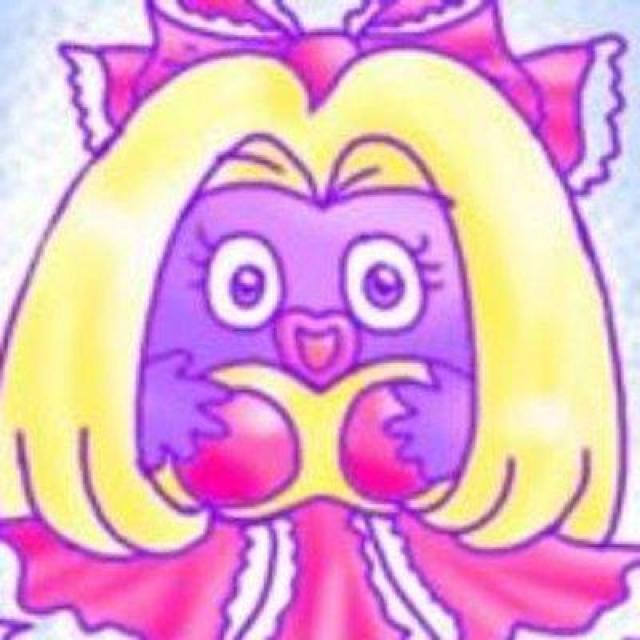Jynx: (26, 45, 602, 640)
